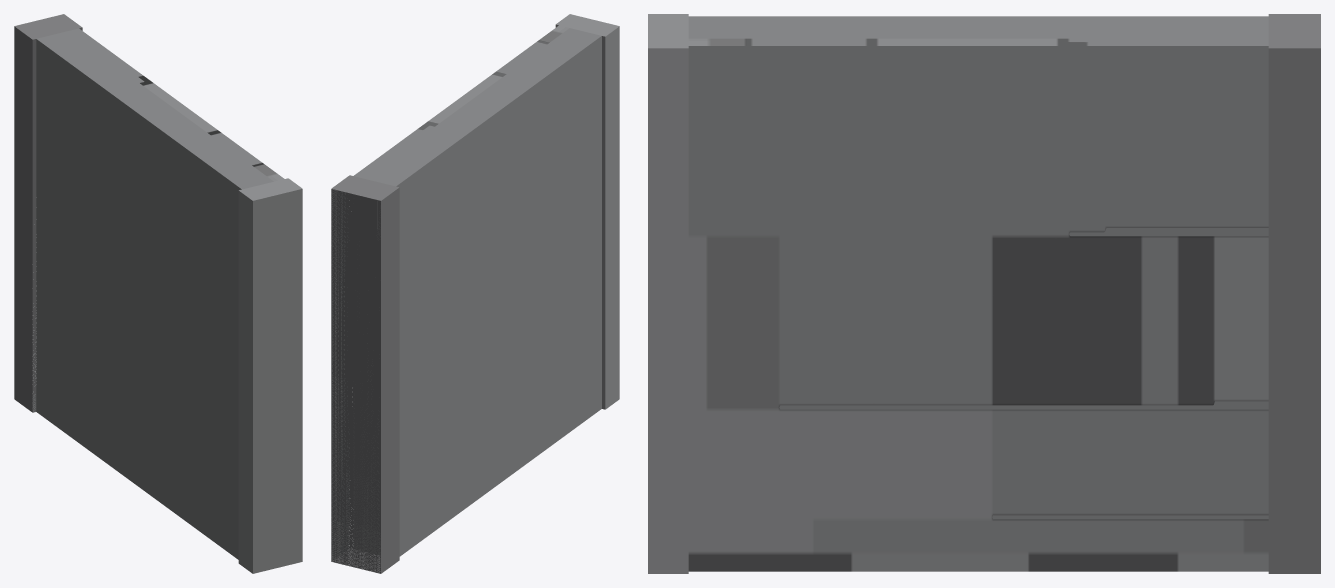
The picture shows the model from 3 angles, left to right: view 1: azimuth 30°, elevation 25°; view 2: azimuth 150°, elevation 25°; view 3: azimuth 270°, elevation 25°; orthographic projection. The views are drawn at different scales.
Size of the model in its own units: 0.14 by 1 by 1.16.
